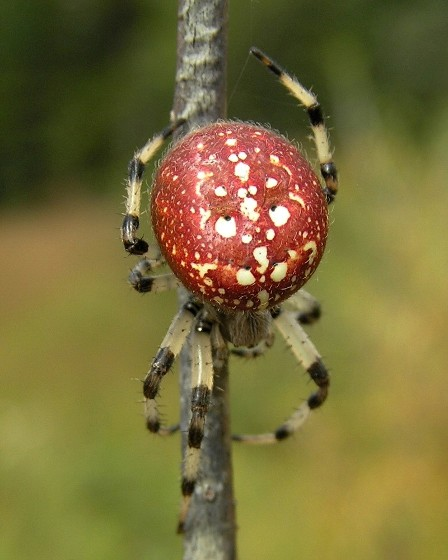spider: (105, 25, 358, 544)
